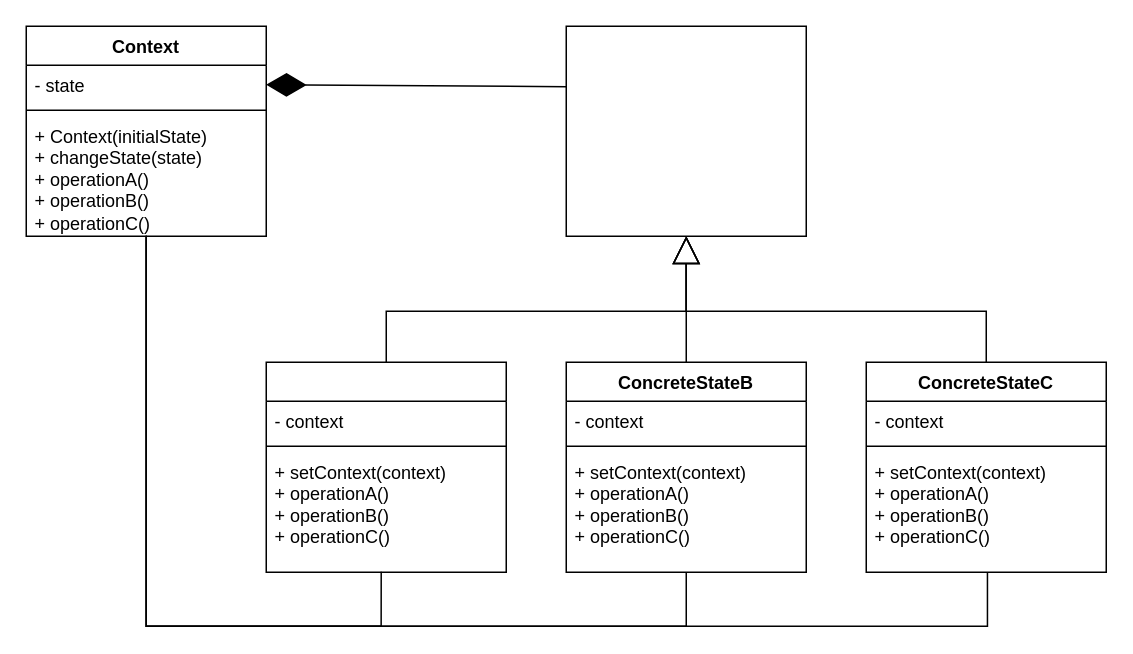
This 1133x654 diagram has some shape labels left out. The shapes that lost their labels are listed below. From the top down, each one's box as (x1, y1, x2, y2) in pixels, then its label:
(565, 25, 806, 236): <<Interface>> State + operationA() + operationB() + operationC()
(265, 361, 506, 572): ConcreteStateA
